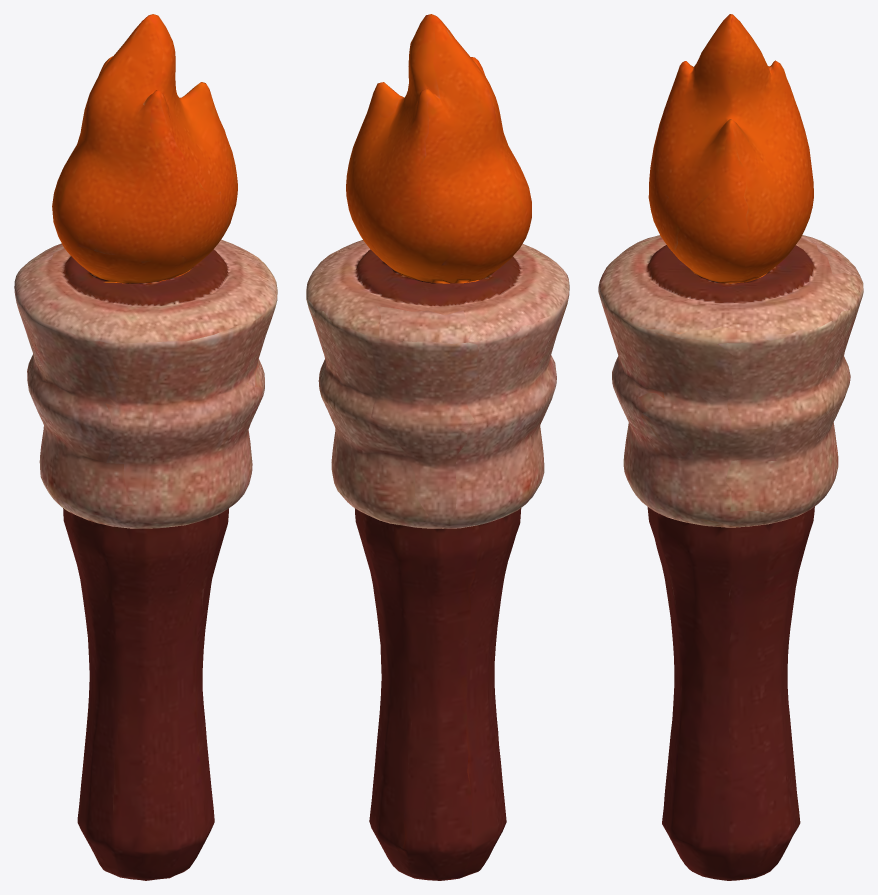
The model's file is Torch.glb.
3 renders of one model, left to right at view 1: azimuth 30°, elevation 25°; view 2: azimuth 150°, elevation 25°; view 3: azimuth 270°, elevation 25°, orthographic.
Bounding box in the file's own units: 0.2839 × 1 × 0.2836.
1 material, 1 textured.
